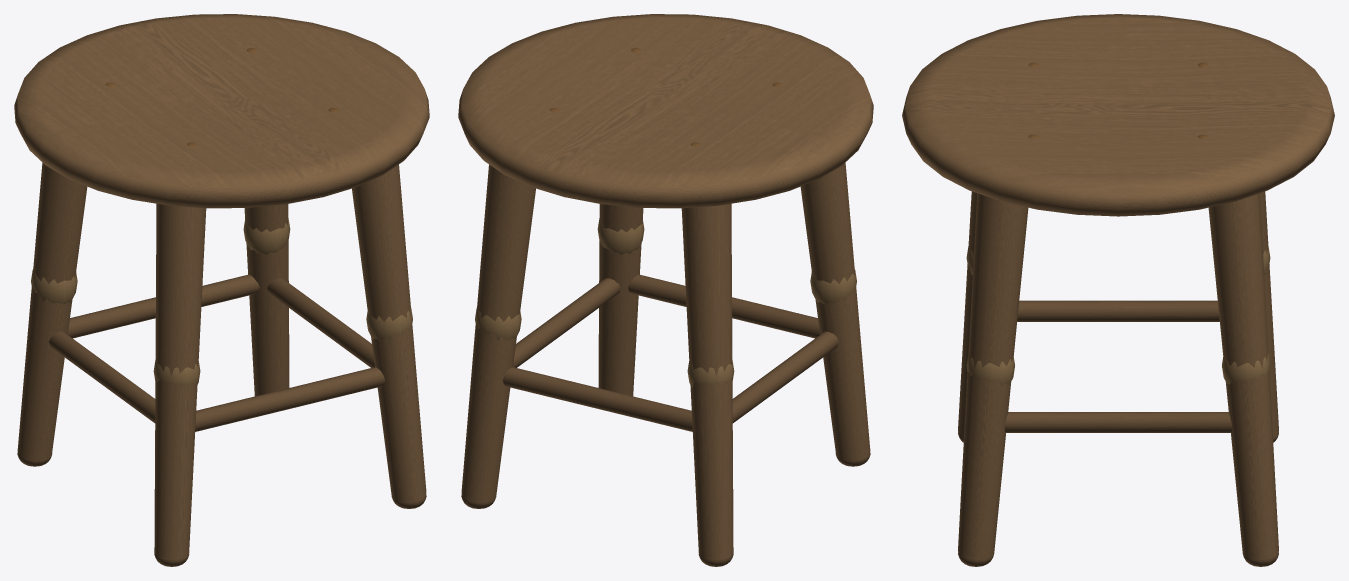
Rendered from taburete.glb.
3 views of the same model, side by side, from view 1: azimuth 30°, elevation 25°; view 2: azimuth 150°, elevation 25°; view 3: azimuth 270°, elevation 25° (orthographic). The views are drawn at different scales.
Visible parts, largest first — view 1: taburete; view 2: taburete; view 3: taburete.
Part boxes in pixels (bbox=[...]): taburete: bbox=[14, 14, 429, 566]; taburete: bbox=[458, 14, 873, 566]; taburete: bbox=[902, 14, 1334, 566].
Bounding box in the file's own units: 0.57 × 0.59 × 0.57.
Materials: 1 (1 with a texture image).
